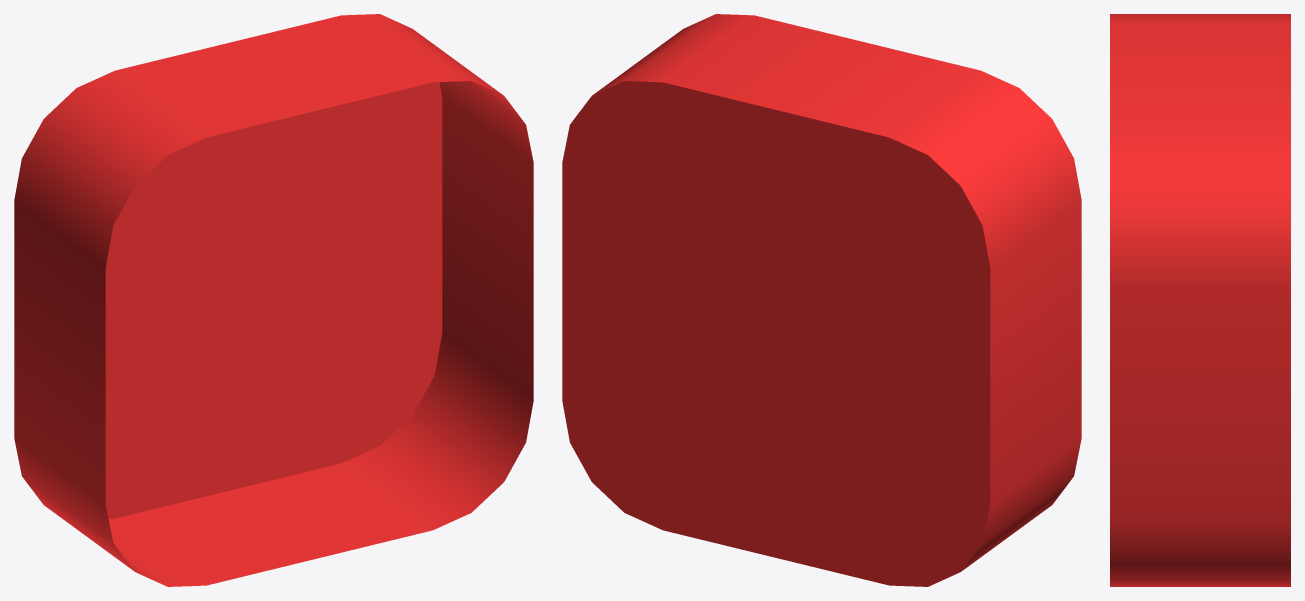
File: original-10.obj
3 renders of one model, left to right at view 1: azimuth 30°, elevation 25°; view 2: azimuth 150°, elevation 25°; view 3: azimuth 270°, elevation 25°, orthographic.
Parts seen in each view (by area): view 1: #ID105; view 2: #ID105; view 3: #ID105.
Part boxes in pixels (<box>): #ID105: <box>14,14,533,586</box>; #ID105: <box>562,14,1081,586</box>; #ID105: <box>1110,14,1290,586</box>.
Size of the model in its own units: 0.2538 by 0.2538 by 0.094.
